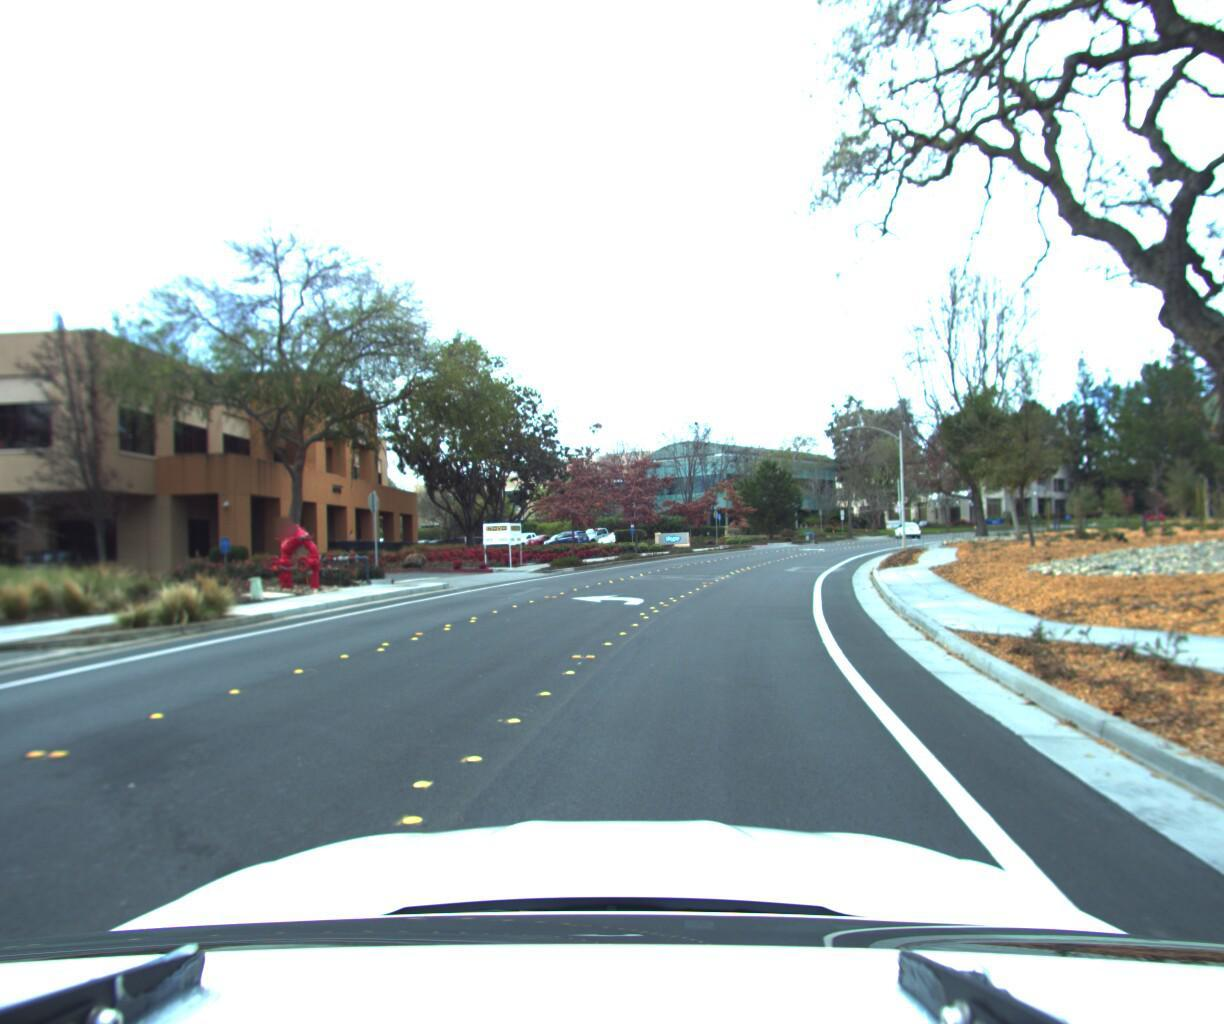car: (892, 517, 921, 536)
